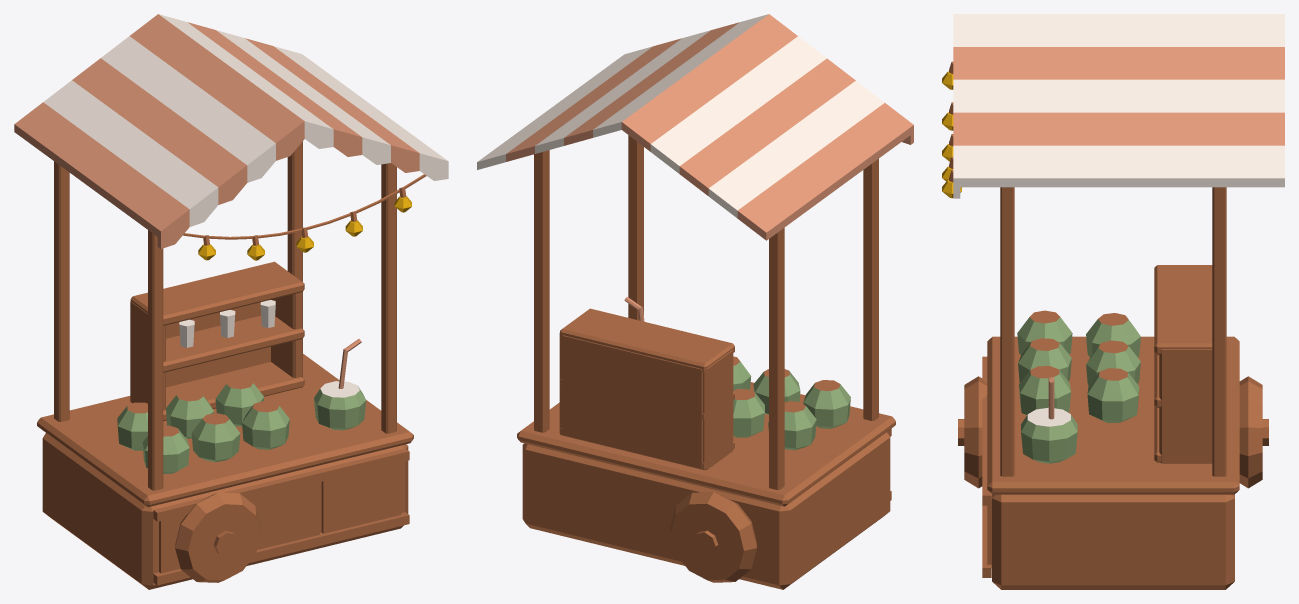
File: snackShack.glb
The picture shows the model from 3 angles, left to right: view 1: azimuth 30°, elevation 25°; view 2: azimuth 150°, elevation 25°; view 3: azimuth 270°, elevation 25°; orthographic projection. The views are drawn at different scales.
Parts seen in each view (by area): view 1: snackShack; view 2: snackShack; view 3: snackShack.
Boxes of the visible parts, x1,y1,x2,y2 form: snackShack: (14,14,448,589); snackShack: (477,14,913,589); snackShack: (942,14,1284,589).
Bounding box in the file's own units: 3.4 × 5.1 × 3.1.
Materials: 1 (1 with a texture image).
